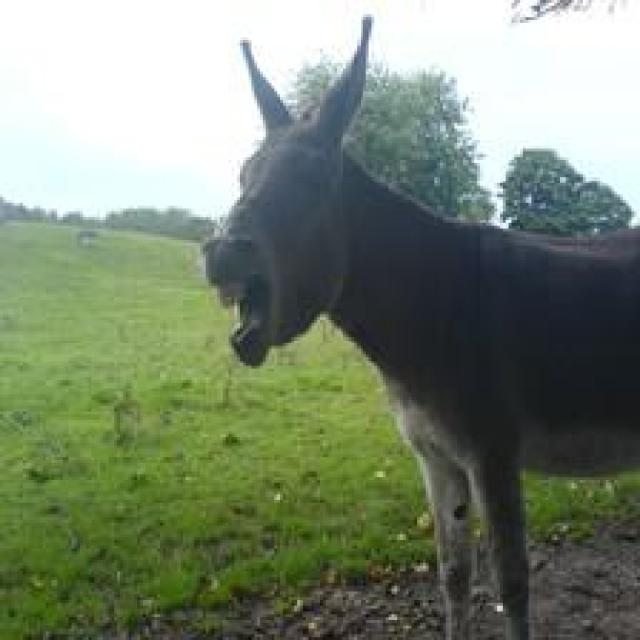Donkey: (200, 12, 637, 637)
